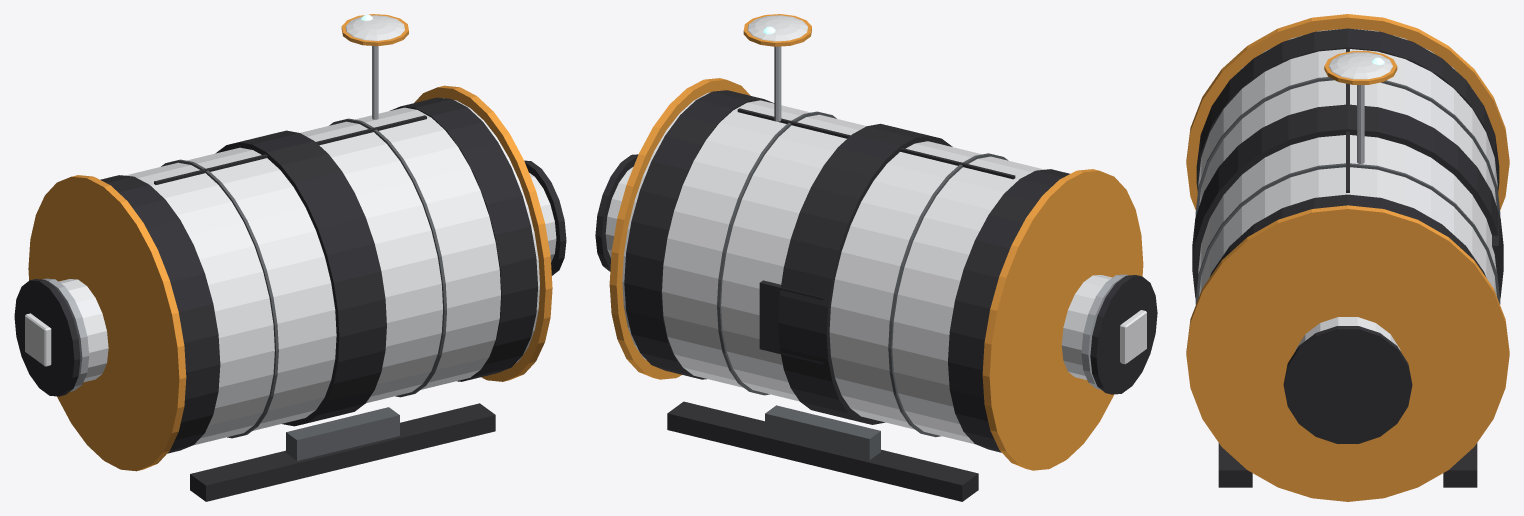
The model's file is SM_Hero_LAB.glb.
The picture shows the model from 3 angles, left to right: view 1: azimuth 30°, elevation 25°; view 2: azimuth 150°, elevation 25°; view 3: azimuth 270°, elevation 25°; orthographic projection. The views are drawn at different scales.
Parts seen in each view (by area): view 1: SM_Hero_LAB; view 2: SM_Hero_LAB; view 3: SM_Hero_LAB.
Part boxes in pixels (left/top/right/bottom): SM_Hero_LAB: left=14, top=14, right=566, bottom=501; SM_Hero_LAB: left=595, top=14, right=1157, bottom=501; SM_Hero_LAB: left=1186, top=14, right=1509, bottom=501.
Bounding box in the file's own units: 5.8 × 4.14 × 3.02.
